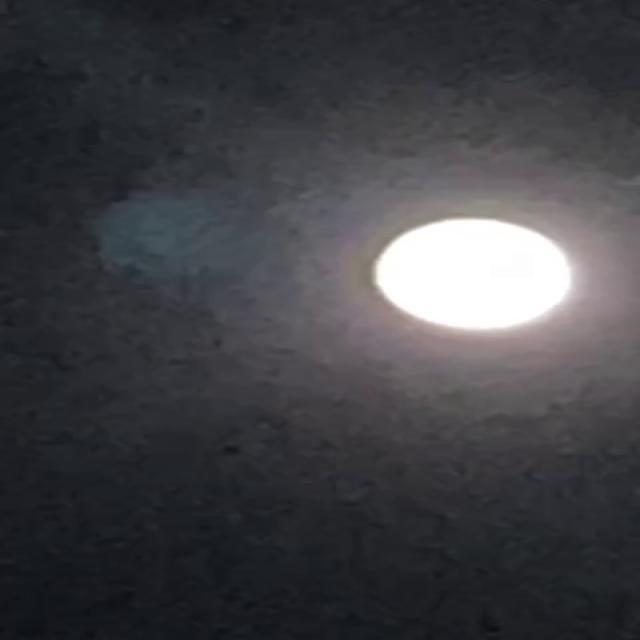moon: (358, 214, 585, 335)
